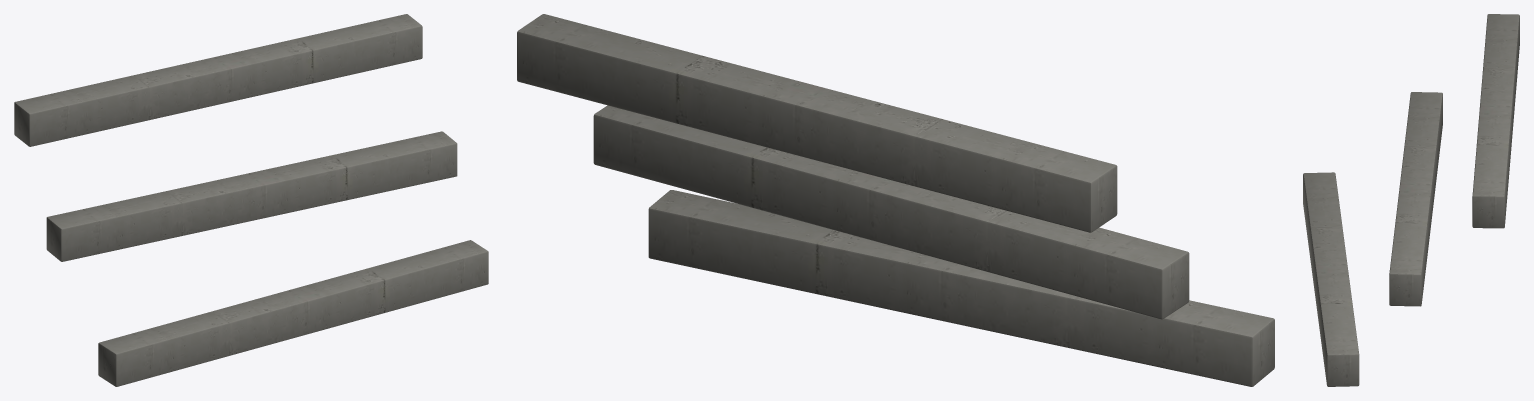
The model's file is ALV-VRG-001_anim.glb.
The picture shows the model from 3 angles, left to right: view 1: azimuth 30°, elevation 25°; view 2: azimuth 150°, elevation 25°; view 3: azimuth 270°, elevation 25°; orthographic projection. The views are drawn at different scales.
Visible parts, largest first — view 1: ALV-VRG-001_anim1, ALV-VRG-001_anim2, ALV-VRG-001_anim0; view 2: ALV-VRG-001_anim2, ALV-VRG-001_anim0, ALV-VRG-001_anim1; view 3: ALV-VRG-001_anim0, ALV-VRG-001_anim1, ALV-VRG-001_anim2.
Boxes of the visible parts, x1,y1,x2,y2 form: ALV-VRG-001_anim1: (46, 131, 457, 261); ALV-VRG-001_anim2: (14, 14, 422, 146); ALV-VRG-001_anim0: (98, 240, 488, 386); ALV-VRG-001_anim2: (517, 14, 1117, 232); ALV-VRG-001_anim0: (648, 190, 1274, 386); ALV-VRG-001_anim1: (593, 105, 1189, 319); ALV-VRG-001_anim0: (1303, 172, 1359, 386); ALV-VRG-001_anim1: (1389, 92, 1442, 306); ALV-VRG-001_anim2: (1472, 14, 1519, 228).
Bounding box in the file's own units: 1.23 × 0.6 × 0.6017.
1 material, 1 textured.
